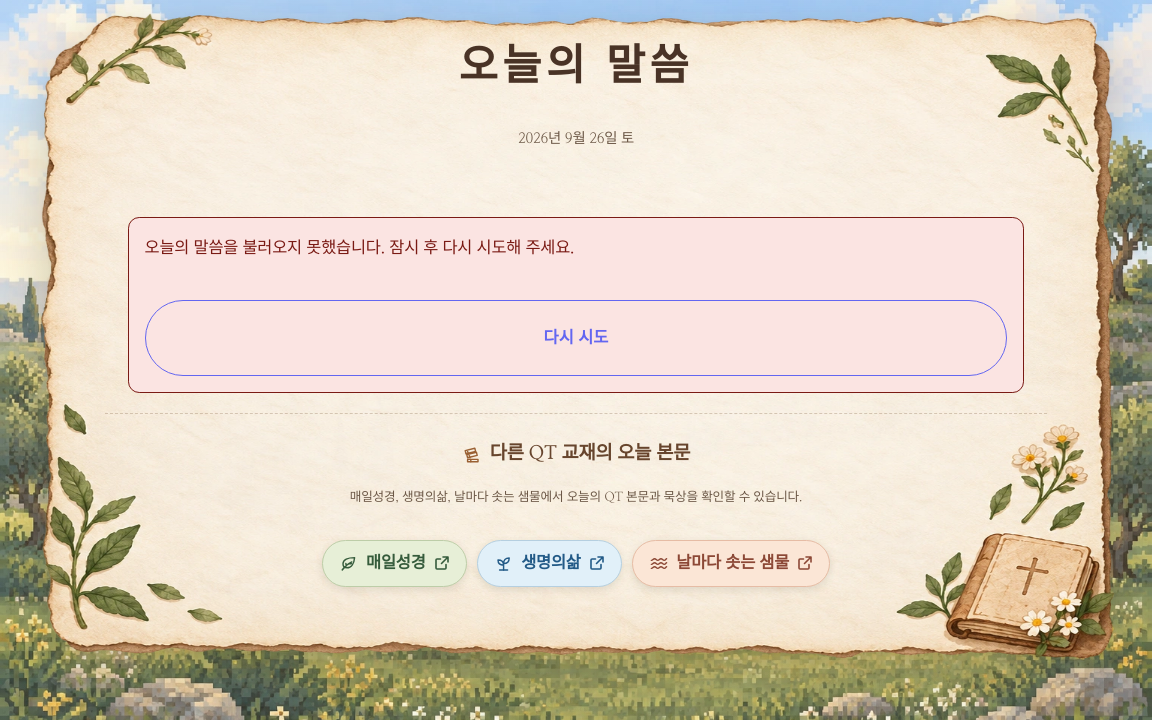
Test: 오늘의 말씀 화면 › 로드 실패 시 QT 영역만 오류를 내고 다시 시도할 수 있다
The image size is (1152, 720).
Expected: the message shows "오늘의 말씀을 불러오지 못했습니다", [145, 240, 574, 256]
Click the button "다시 시도" at (576, 338), box [145, 300, 1007, 376]
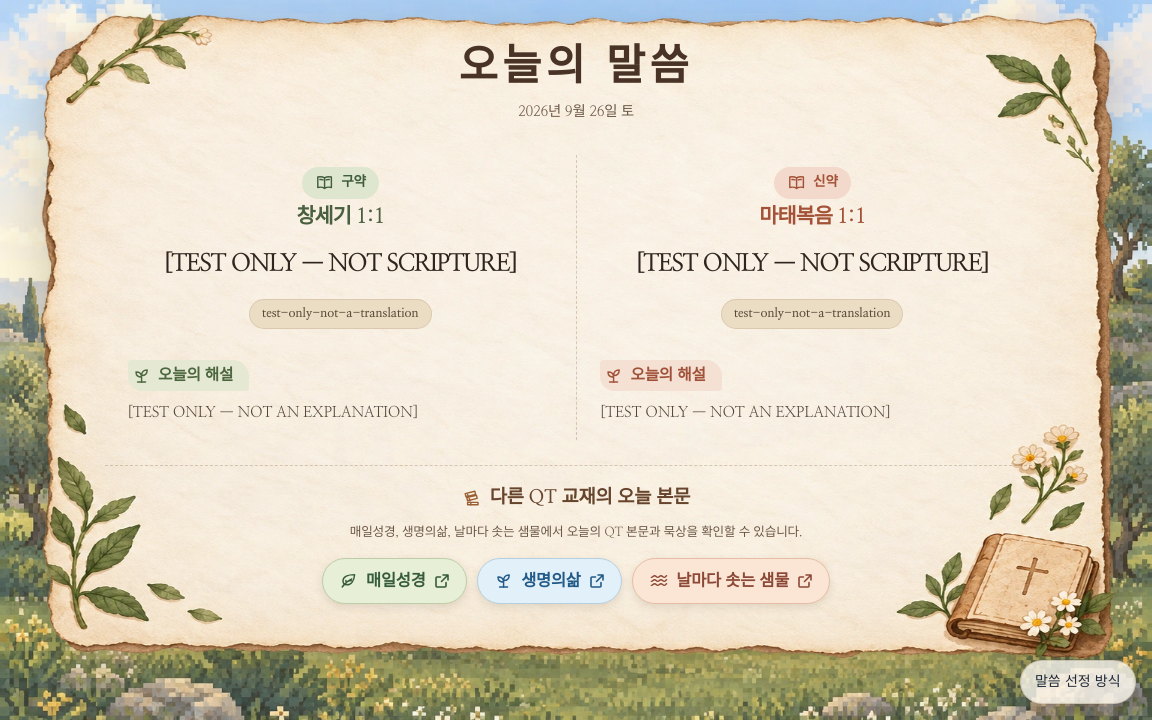
Expected: the element "창세기 1:1" is shown, [128, 167, 517, 420]
